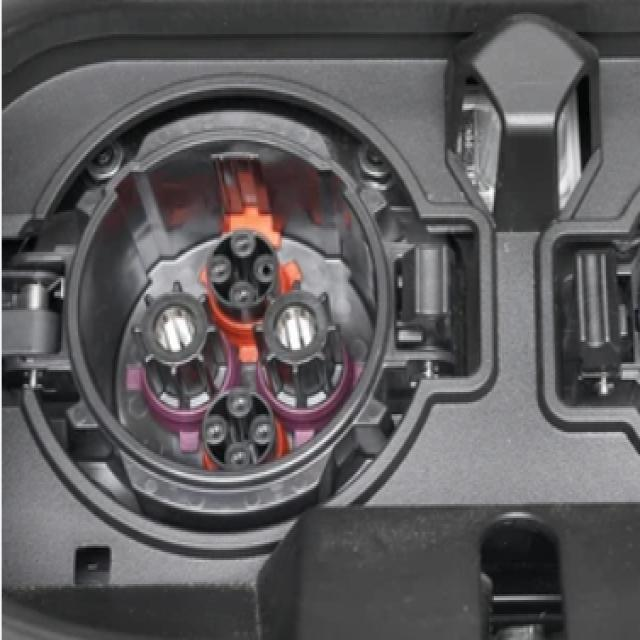CHAdeMO: (69, 130, 389, 493)
